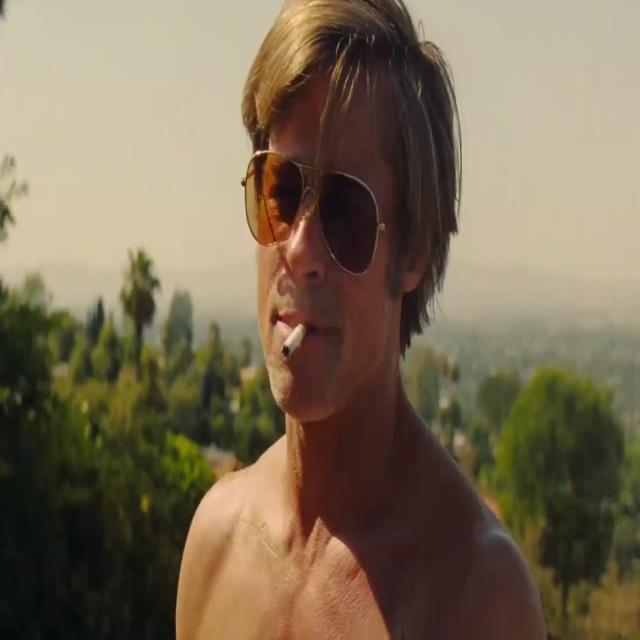Smooking: (279, 318, 305, 371)
